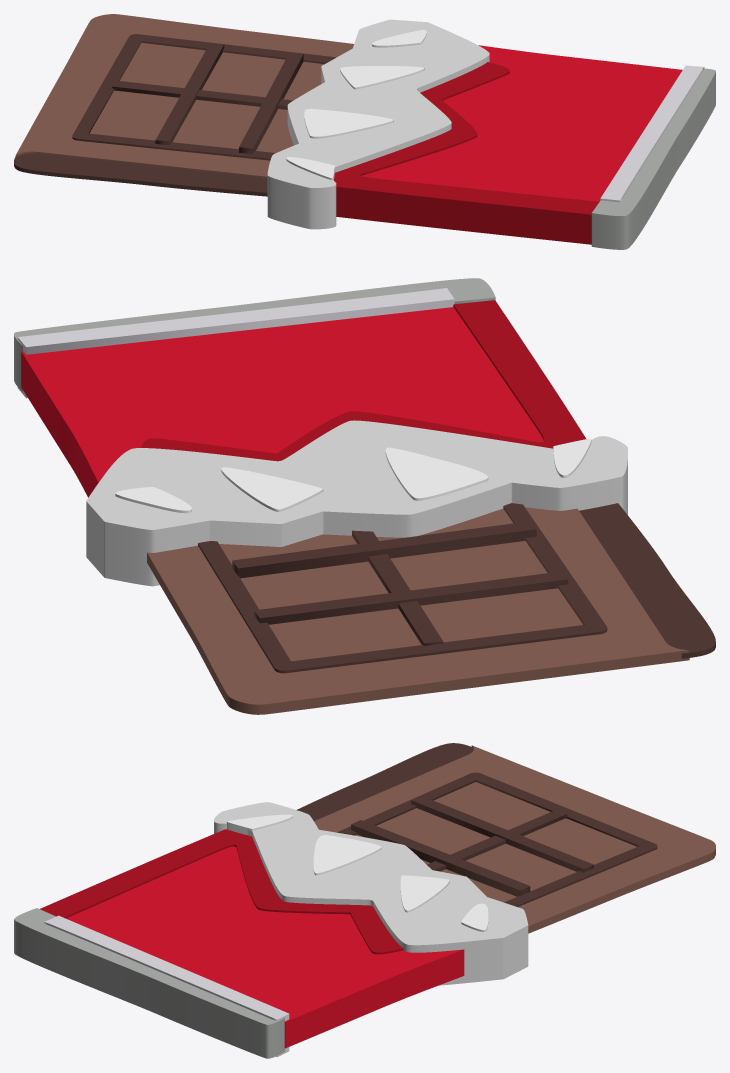
The model's file is emoji_u1f36b.glb.
3 views of the same model, one above another, from view 1: azimuth 30°, elevation 25°; view 2: azimuth 150°, elevation 25°; view 3: azimuth 270°, elevation 25° (orthographic). The views are drawn at different scales.
Parts seen in each view (by area): view 1: emoji_u1f36b; view 2: emoji_u1f36b; view 3: emoji_u1f36b.
Boxes of the visible parts, bbox=[...] form: emoji_u1f36b: bbox=[14, 14, 715, 249]; emoji_u1f36b: bbox=[14, 278, 715, 714]; emoji_u1f36b: bbox=[14, 743, 715, 1058].
Bounding box in the file's own units: 0.0338 × 0.0024 × 0.0338.
